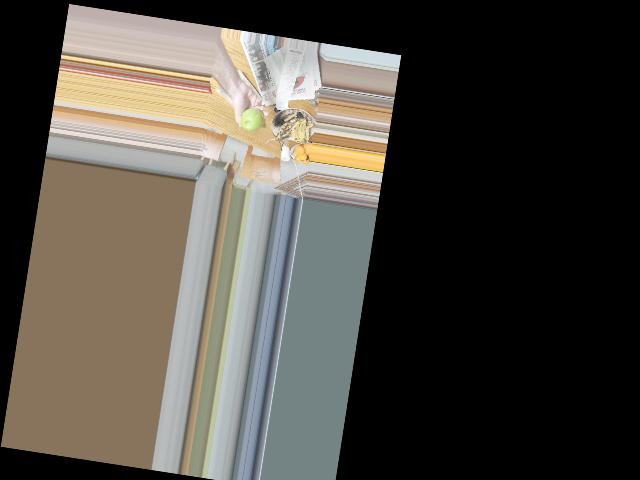apple: (238, 105, 264, 134)
